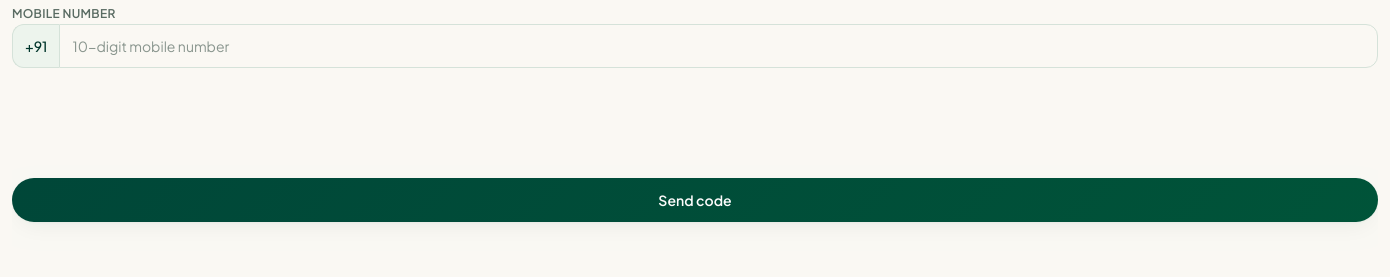
it: MobileOtpForm › number step › tells the learner to tick the human check when it was skipped
Expected: the button "Send code" is enabled, [12,178,1378,222]
Type "9876543210" into the field labelled "Mobile number" at (719, 46), box [60,24,1378,68]
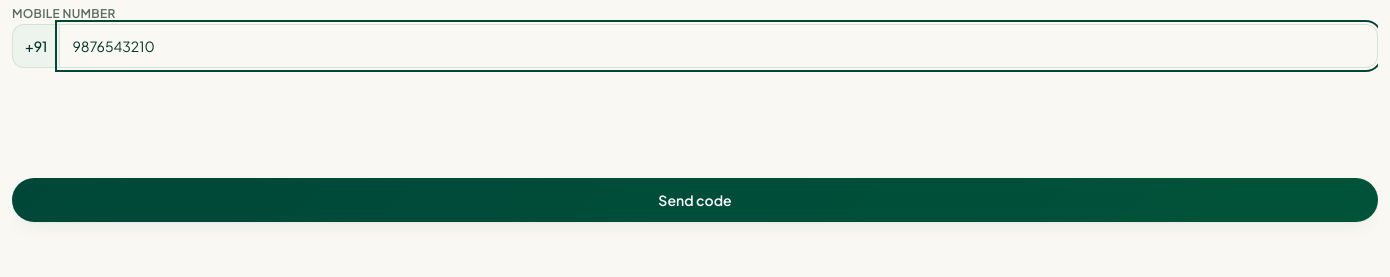
Click the button "Send code" at (695, 200), box [12,178,1378,222]
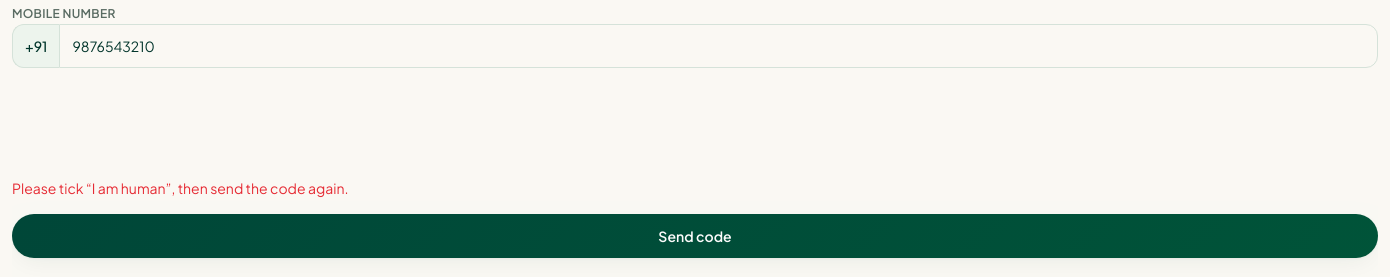
Now the message shows "tick “I am human”", box [12,179,348,197]
